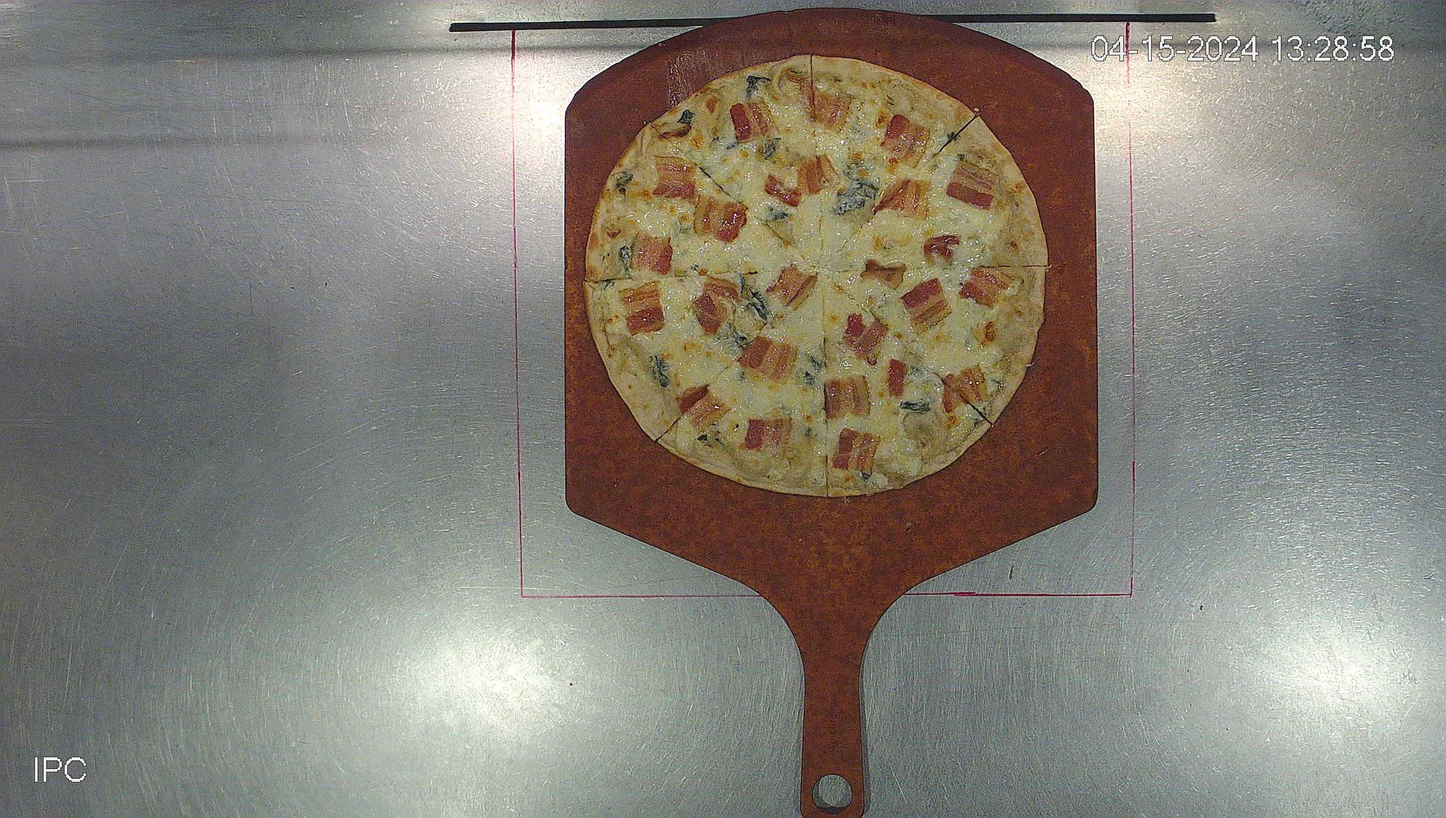pepporoni: (578, 56, 1049, 502)
